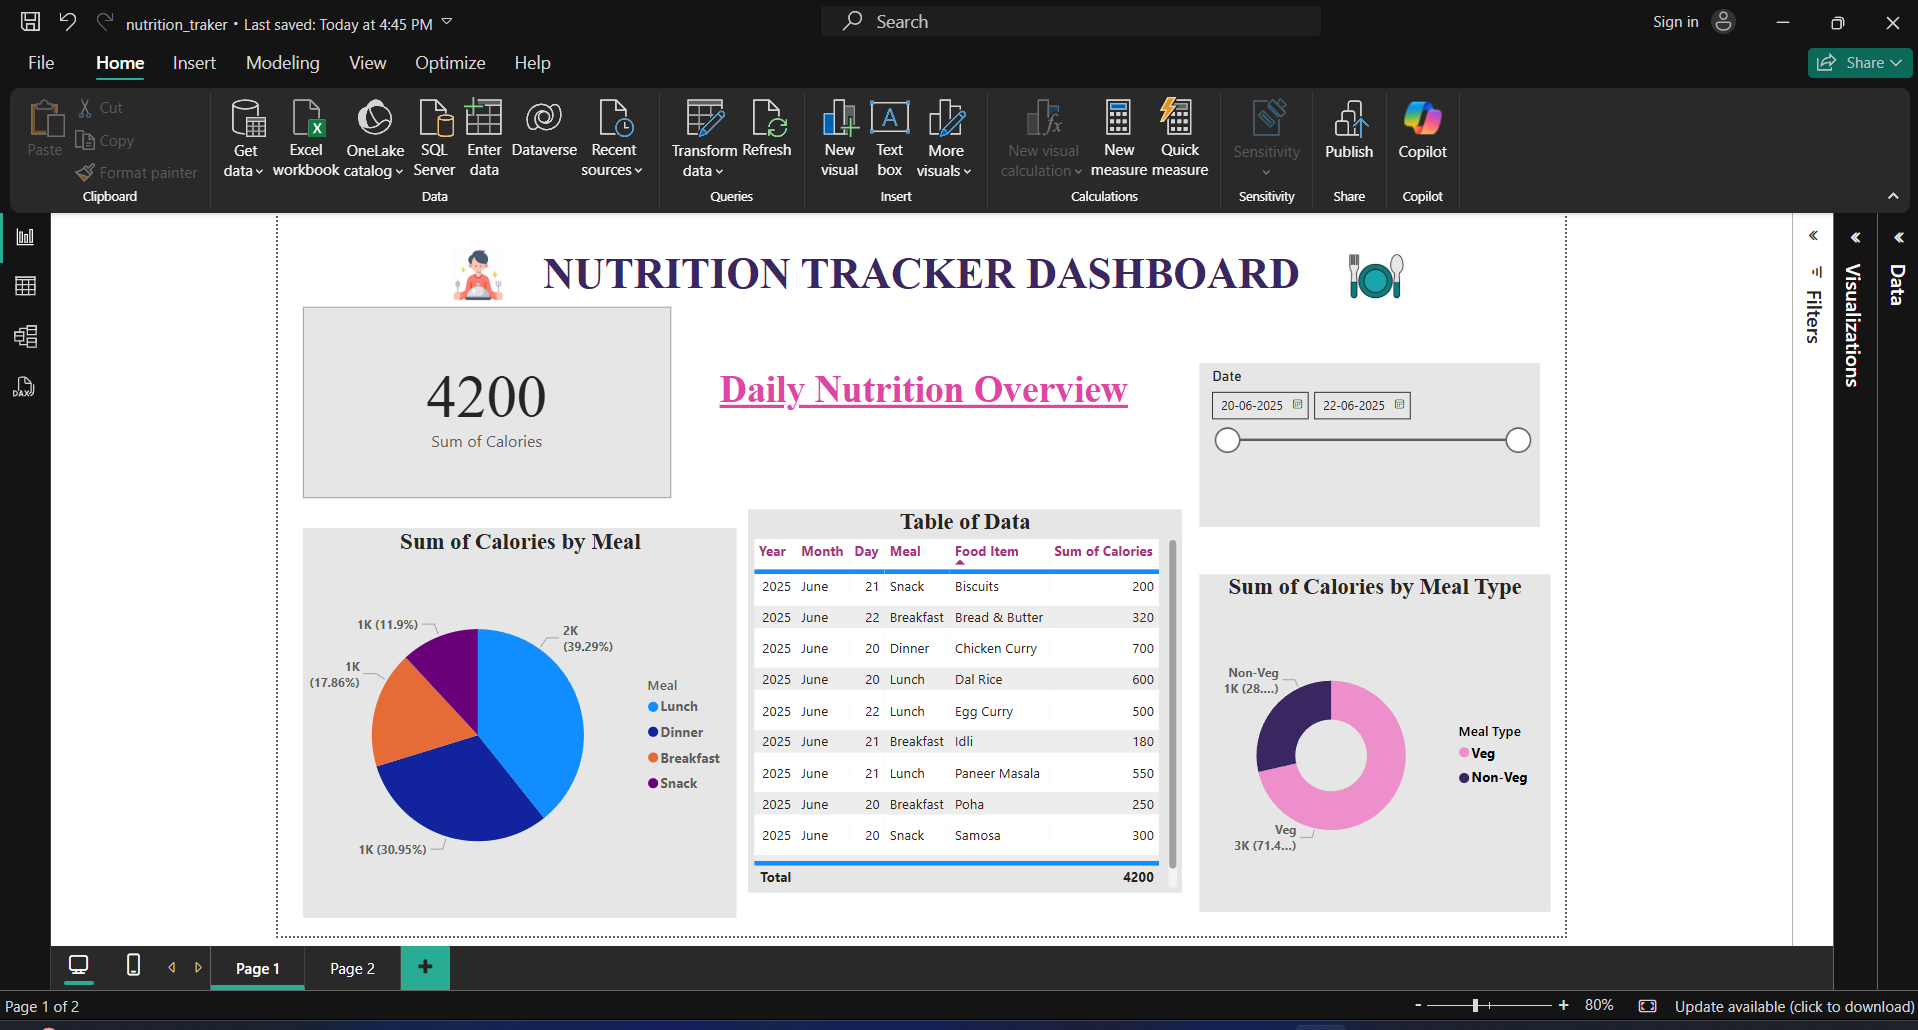

This screenshot's page, from the dashboard's own definition file:
{"tool":"powerbi","page":{"name":"Page 1","canvas":[1280,720],"ordinal":0},"visuals":[{"type":"card","fields":{"Values":["Sum(Sheet1.Calories)"]},"box":[24.7,93.3,366.4,190.7],"z":0},{"type":"pieChart","fields":{"Category":["Sheet1.Meal"],"Y":["Sum(Sheet1.Calories)"]},"box":[24.7,312.9,430.9,388.3],"z":1000},{"type":"tableEx","title":"Table of Data","fields":{"Values":["Sheet1.Date.Variation.Date Hierarchy.Year","Sheet1.Date.Variation.Date Hierarchy.Month","Sheet1.Date.Variation.Date Hierarchy.Day","Sheet1.Meal","Sheet1.Food Item","Sum(Sheet1.Calories)"]},"box":[467.9,295,432.2,381.5],"z":2000},{"type":"slicer","fields":{"Values":["Sheet1.Date"]},"box":[916.6,149.6,338.9,163.3],"z":3000},{"type":"textbox","box":[0,31.6,1280.3,61.7],"z":4000},{"type":"textbox","box":[407.5,149.6,469.3,67.2],"z":5000},{"type":"donutChart","fields":{"Category":["Sheet1.Meal Type"],"Y":["Sum(Sheet1.Calories)"]},"box":[916.6,359.5,349.9,336.2],"z":6000},{"type":"image","box":[146.8,31.6,104.3,61.7],"z":6001},{"type":"image","box":[1037.4,13.7,111.1,98.8],"z":6002}]}

Visuals, with their boxes on the page's 1280x720 design canvas (x1, y1, x2, y2). These are canvas units, not pixel positions in the 1918x1030 screenshot, which may show the page scaled, cropped or inside an application window:
card - Sum(Sheet1.Calories): rect(25, 93, 391, 284)
pieChart - Sheet1.Meal x Sum(Sheet1.Calories): rect(25, 313, 456, 701)
"Table of Data" tableEx: rect(468, 295, 900, 676)
slicer - Sheet1.Date: rect(917, 150, 1256, 313)
textbox: rect(0, 32, 1280, 93)
textbox: rect(408, 150, 877, 217)
donutChart - Sheet1.Meal Type x Sum(Sheet1.Calories): rect(917, 360, 1266, 696)
image: rect(147, 32, 251, 93)
image: rect(1037, 14, 1148, 112)
